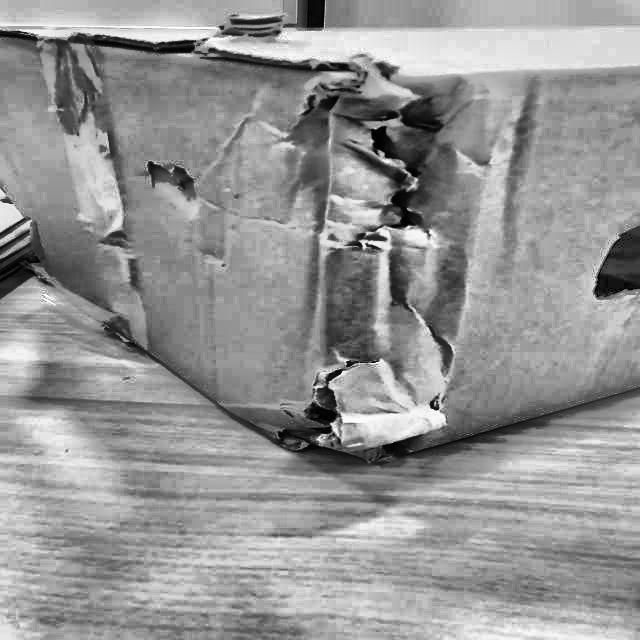box: (0, 9, 639, 491)
hole: (301, 53, 495, 251), (268, 357, 422, 462), (134, 160, 218, 221), (583, 218, 640, 305)
